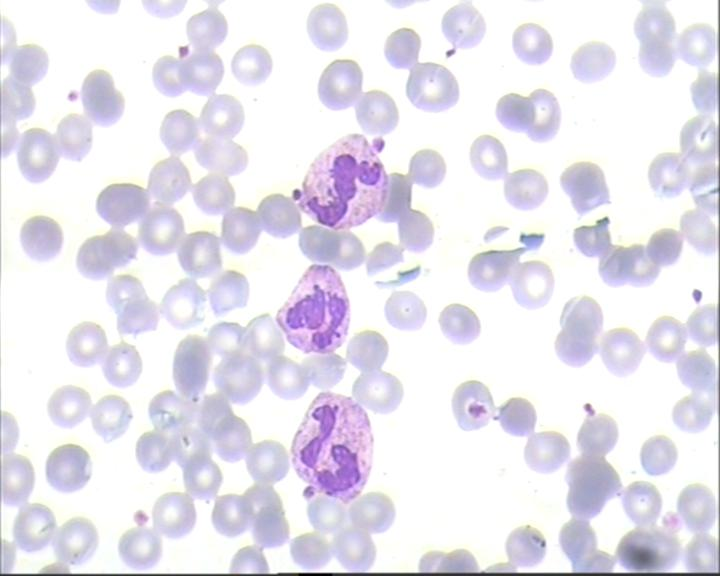neut: (286, 392, 374, 500), (296, 129, 388, 231), (272, 263, 359, 356)
